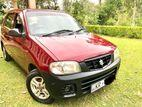car: (1, 8, 122, 104)
